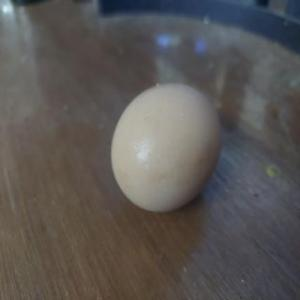egg: (109, 79, 225, 217)
